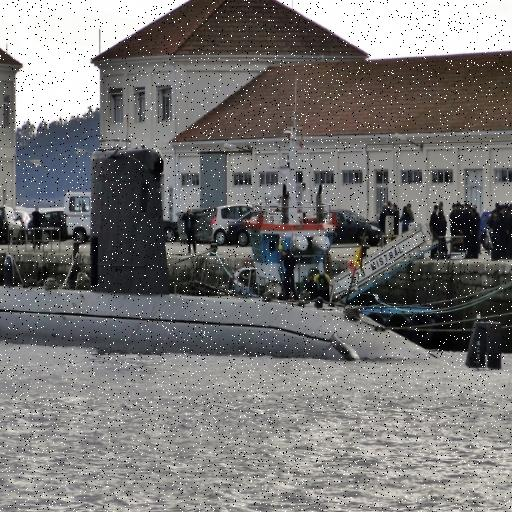submarine: (1, 143, 502, 369)
